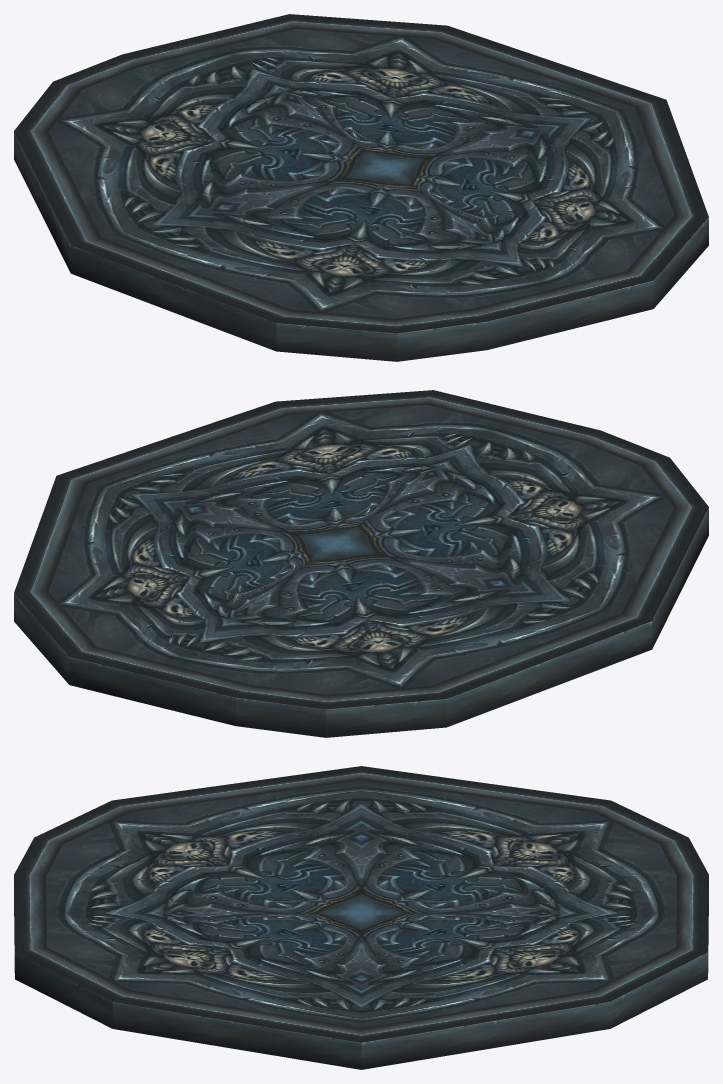
Rendered from Grownd_Circle2.fbx.
3 renders of one model, top to bottom at view 1: azimuth 30°, elevation 25°; view 2: azimuth 150°, elevation 25°; view 3: azimuth 270°, elevation 25°, orthographic. The views are drawn at different scales.
Parts seen in each view (by area): view 1: icecrown_elevator02; view 2: icecrown_elevator02; view 3: icecrown_elevator02.
Boxes of the visible parts, left/top/right/bottom form: icecrown_elevator02: left=14, top=14, right=708, bottom=361; icecrown_elevator02: left=14, top=390, right=708, bottom=737; icecrown_elevator02: left=14, top=766, right=708, bottom=1069.
Size of the model in its own units: 2796 by 128 by 2967.
